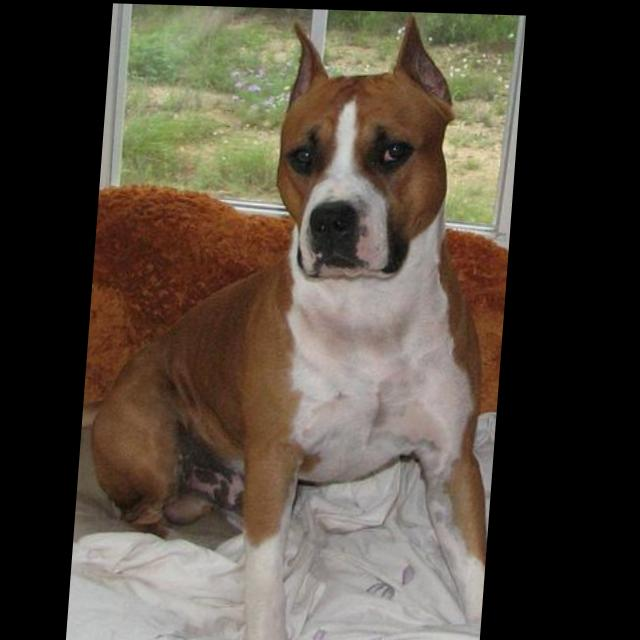amstaff: (87, 4, 528, 640)
